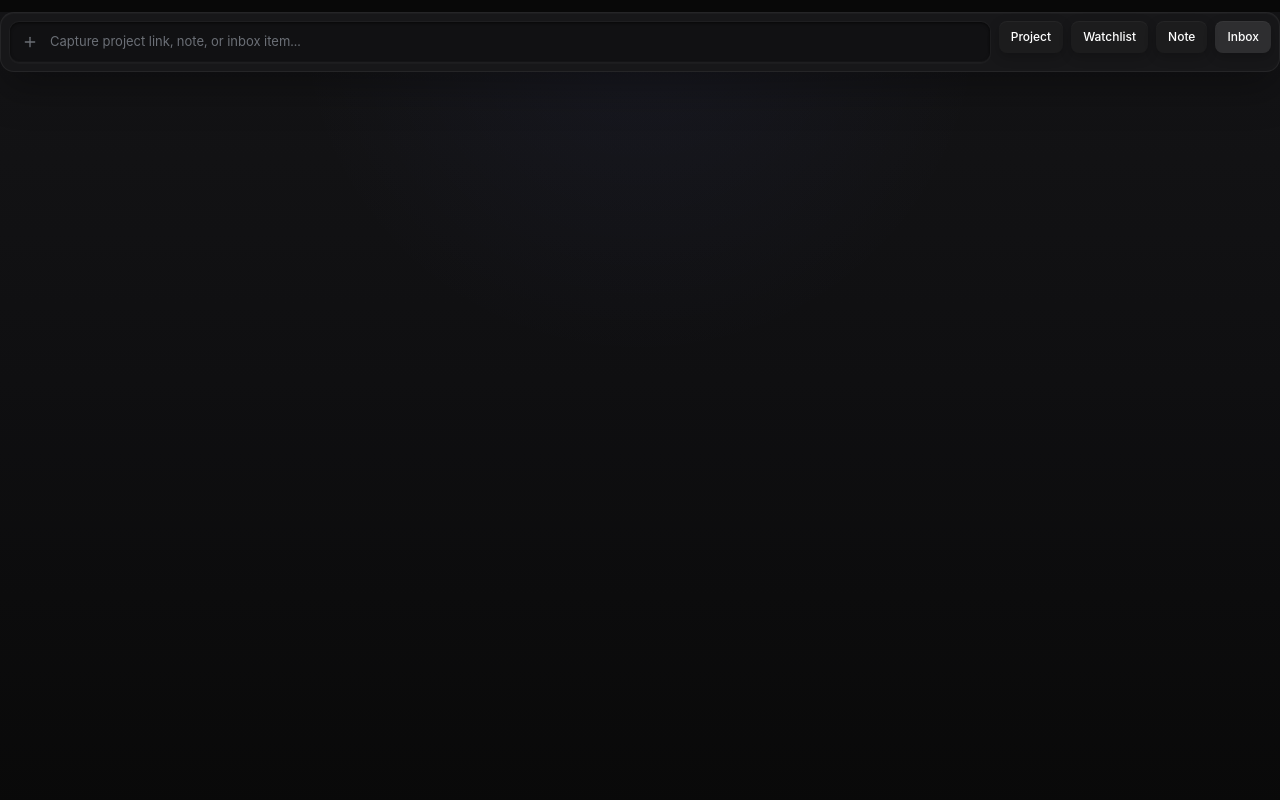
Test: DashboardQuickCapture › saves the Watchlist intent directly to Project Watchlist
The width and height of the screenshot is (1280, 800).
Click the button "Watchlist" at (1110, 37), box [1071, 21, 1148, 53]
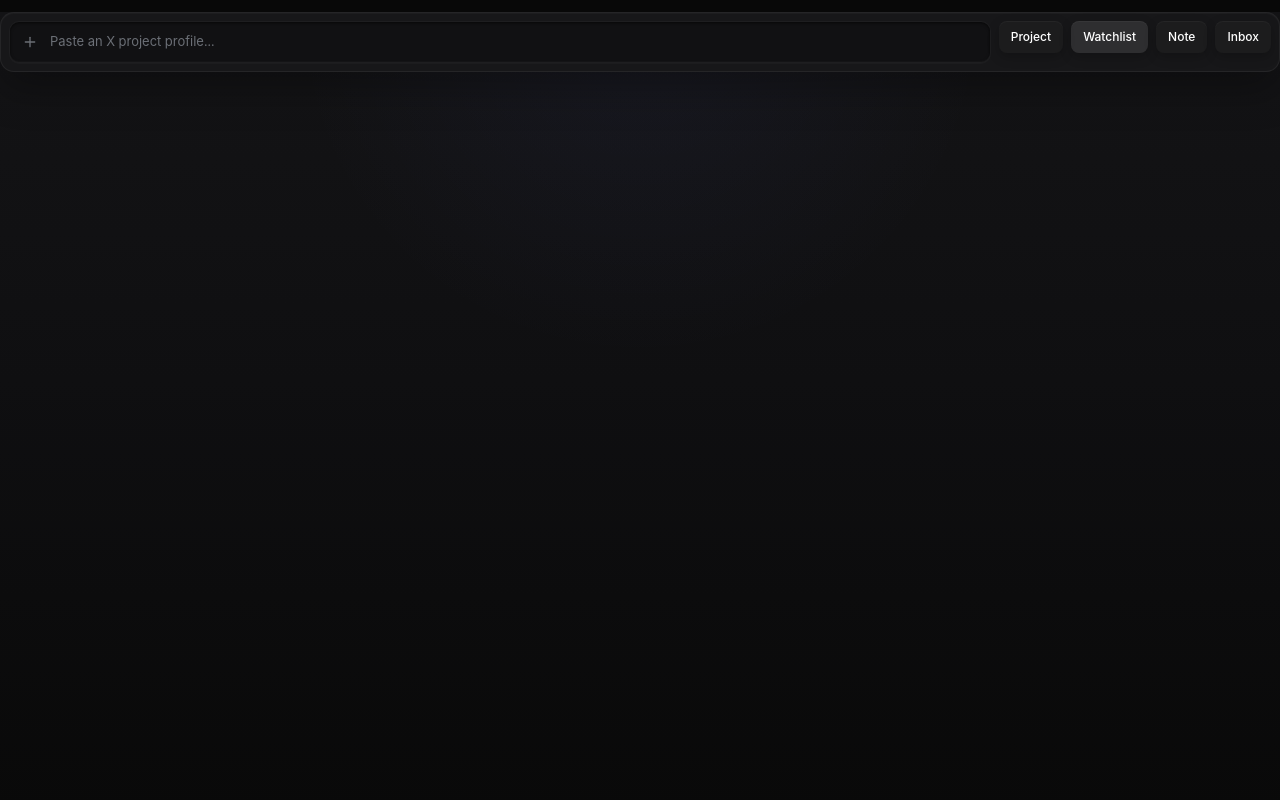
Type "x.com/initiaFDN" into the field named "Quick capture" at (514, 42), box [50, 32, 978, 52]
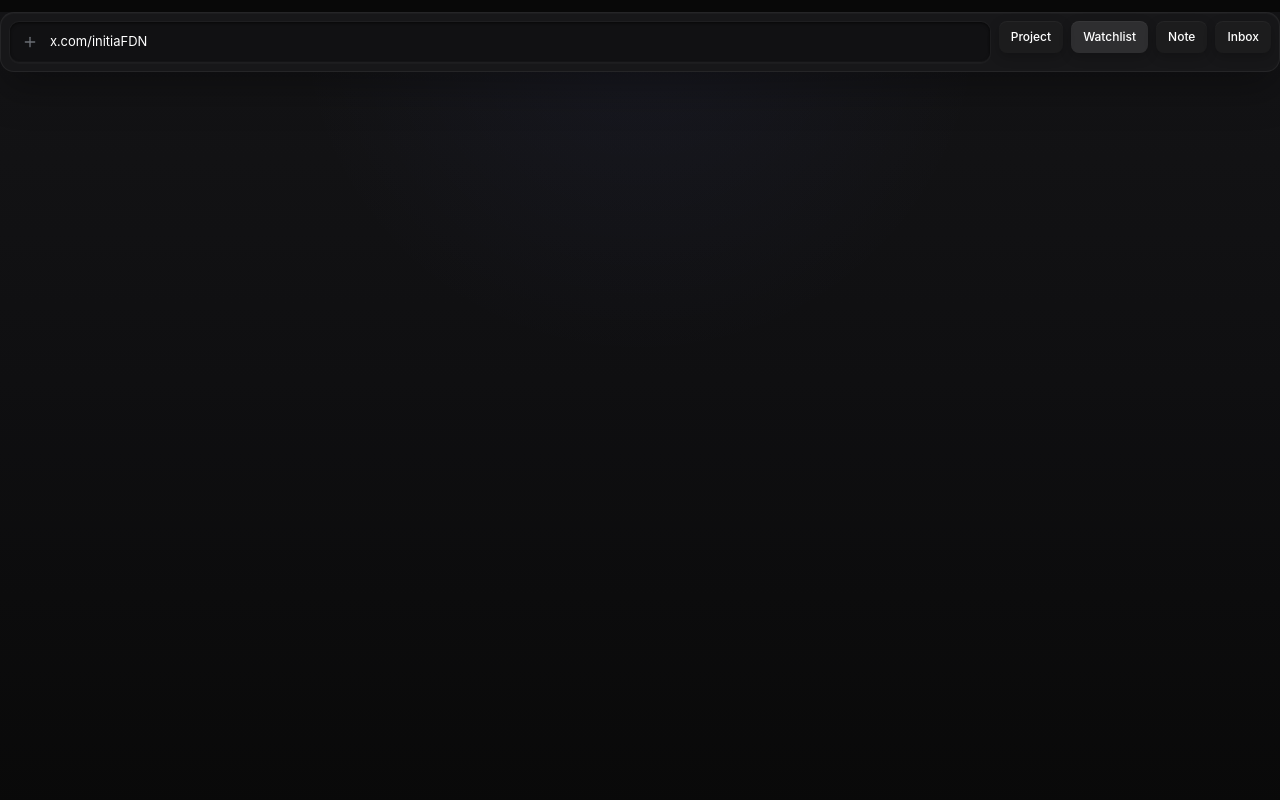
Submit the form named "Quick capture", box [9, 21, 991, 62]
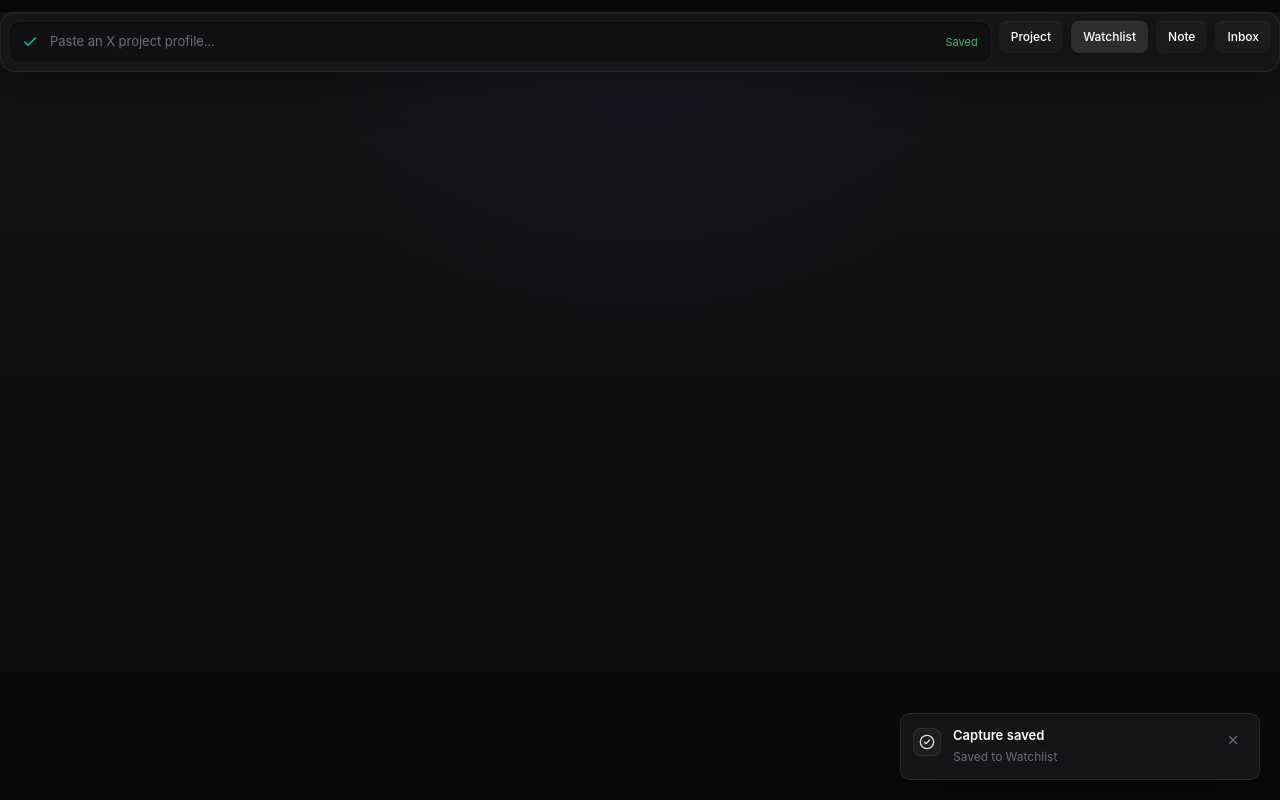
Check: the text "Saved to Watchlist" is shown, box [953, 749, 1057, 764]
